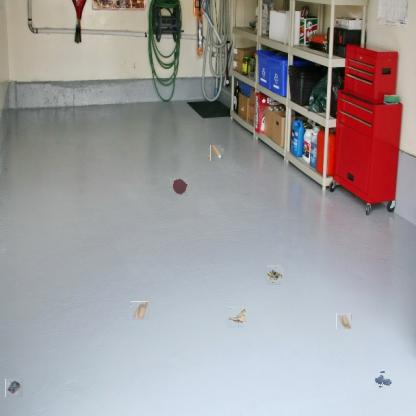dirty: (130, 301, 149, 320), (227, 308, 246, 326), (5, 380, 23, 397), (266, 267, 282, 283), (336, 314, 352, 329), (209, 147, 223, 160)
liquid: (171, 178, 188, 196), (375, 371, 391, 387)
